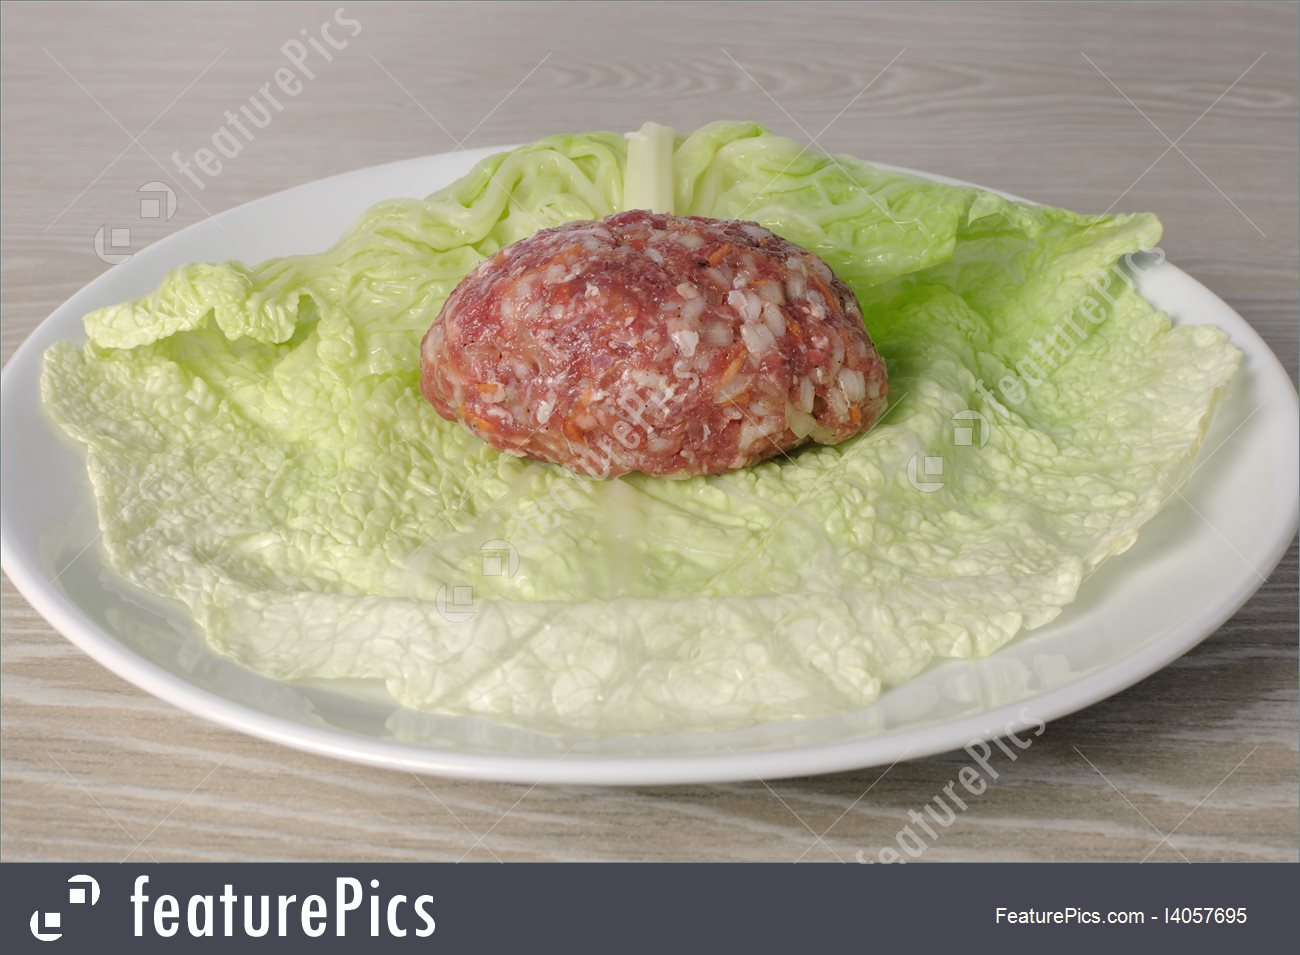ground_beef: (411, 220, 914, 477)
